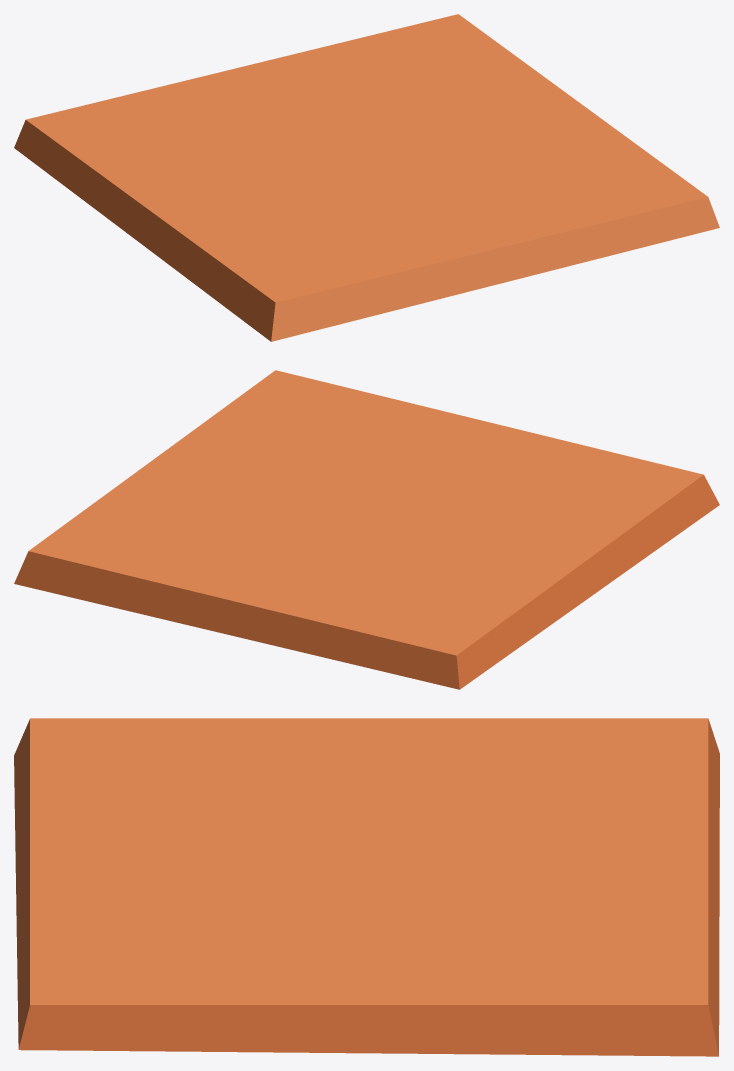
File: decor_005.fbx
3 renders of one model, top to bottom at view 1: azimuth 30°, elevation 25°; view 2: azimuth 150°, elevation 25°; view 3: azimuth 270°, elevation 25°, orthographic. The views are drawn at different scales.
Parts seen in each view (by area): view 1: decor_005; view 2: decor_005; view 3: decor_005.
Boxes of the visible parts, bbox=[...] form: decor_005: bbox=[14, 14, 719, 341]; decor_005: bbox=[14, 370, 719, 689]; decor_005: bbox=[14, 718, 719, 1056].
Bounding box in the file's own units: 184 × 12.73 × 183.
